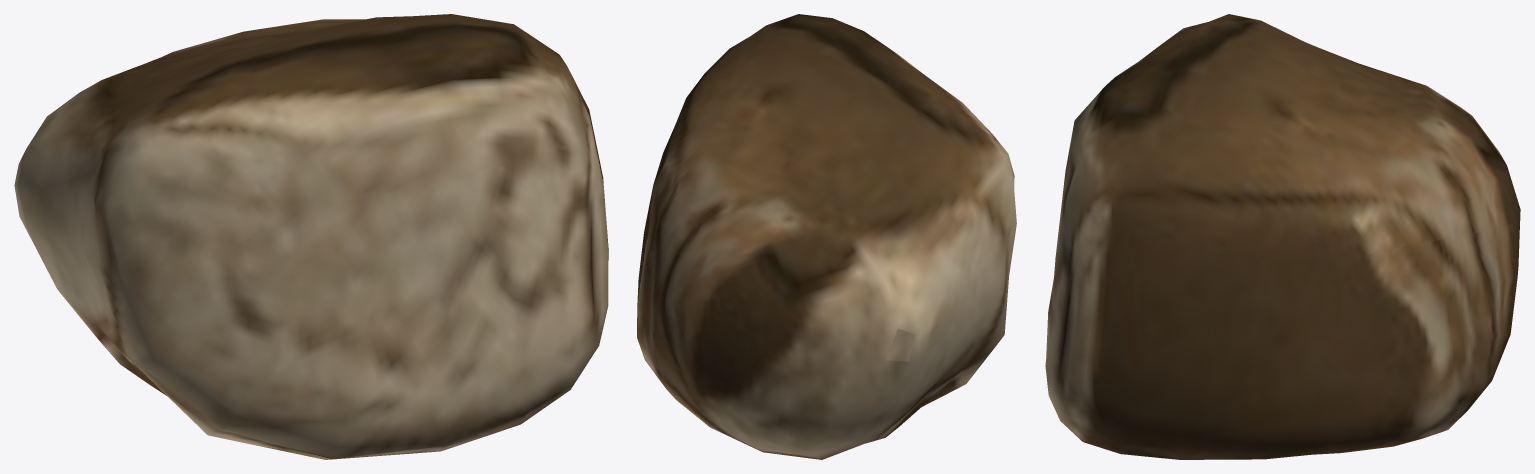
File: Intermediate_Carpal.glb
3 renders of one model, left to right at view 1: azimuth 30°, elevation 25°; view 2: azimuth 150°, elevation 25°; view 3: azimuth 270°, elevation 25°, orthographic. The views are drawn at different scales.
Parts seen in each view (by area): view 1: R_Frt_Intermediate_Carpal; view 2: R_Frt_Intermediate_Carpal; view 3: R_Frt_Intermediate_Carpal.
Part boxes in pixels (box(x1,y1,x2,y2)): R_Frt_Intermediate_Carpal: box(14, 14, 608, 459); R_Frt_Intermediate_Carpal: box(637, 14, 1016, 459); R_Frt_Intermediate_Carpal: box(1045, 14, 1520, 459).
Bounding box in the file's own units: 0.0371 × 0.0329 × 0.0374.
1 material, 1 textured.
